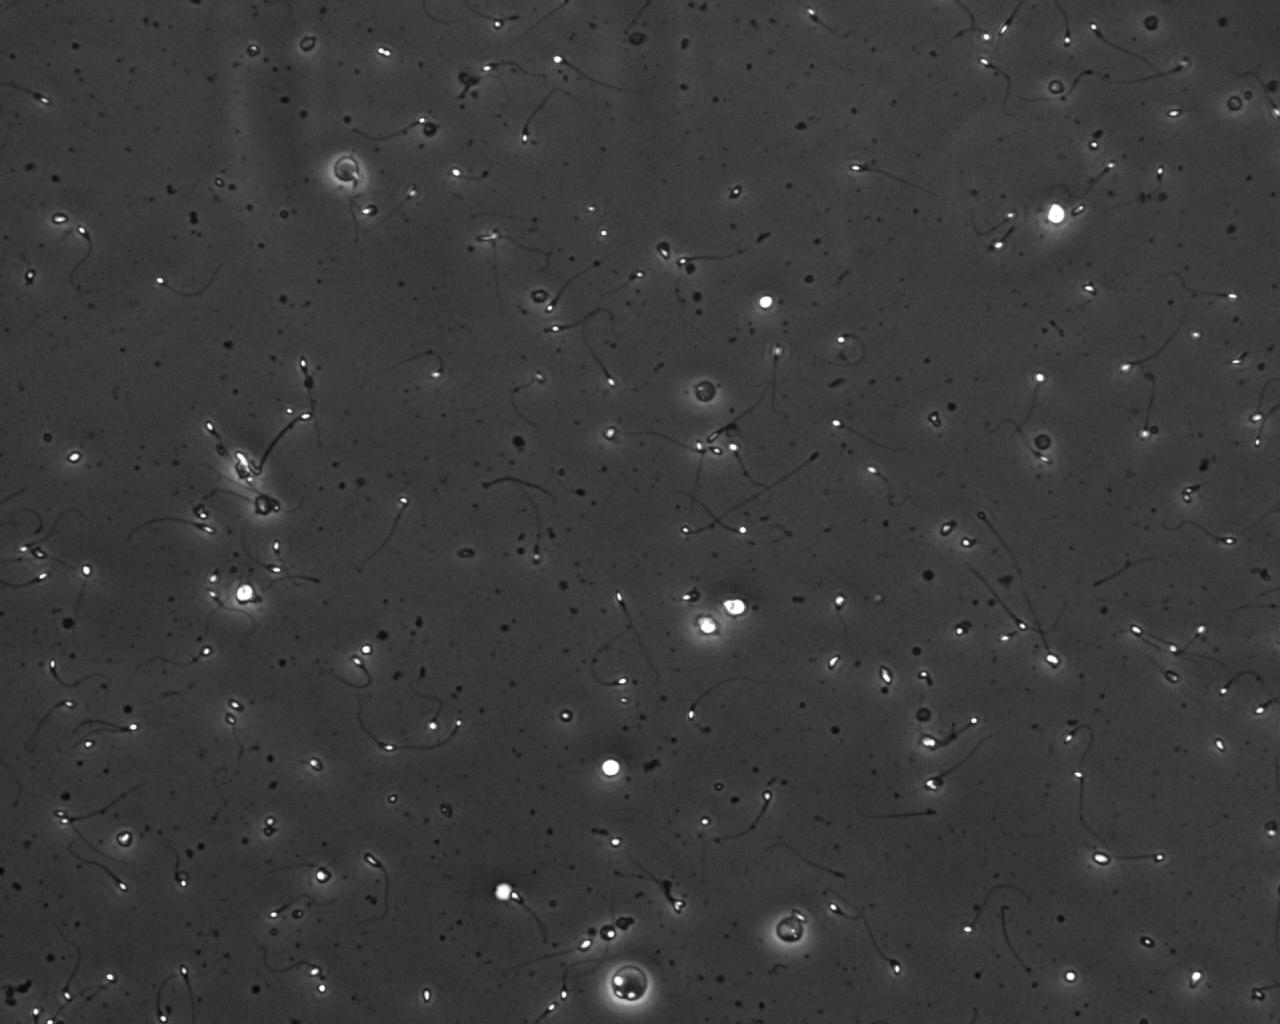cell: (603, 957, 656, 1010), (770, 910, 810, 949), (329, 152, 364, 187), (690, 375, 721, 406), (230, 577, 259, 609), (1042, 197, 1070, 229), (691, 611, 722, 639), (719, 594, 751, 621), (251, 491, 279, 519), (597, 754, 626, 782), (490, 877, 517, 906), (295, 31, 321, 56), (1030, 430, 1056, 453), (1223, 91, 1247, 115), (754, 290, 778, 315), (1044, 76, 1068, 99)
